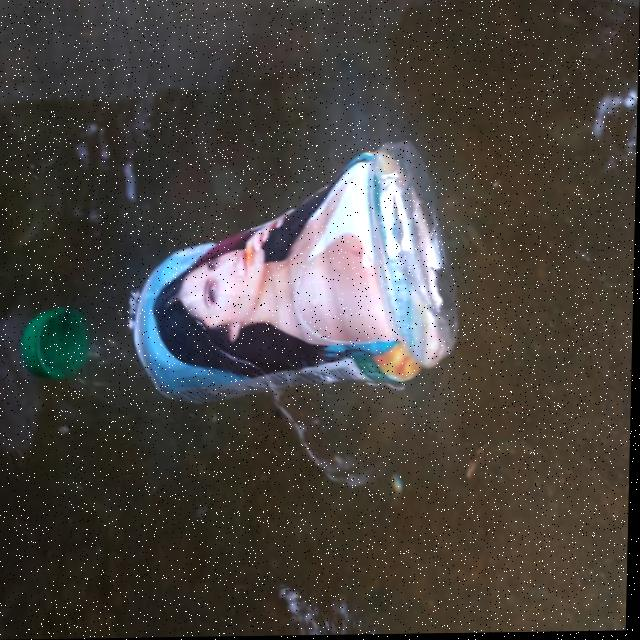waterbottle: (14, 120, 465, 438)
